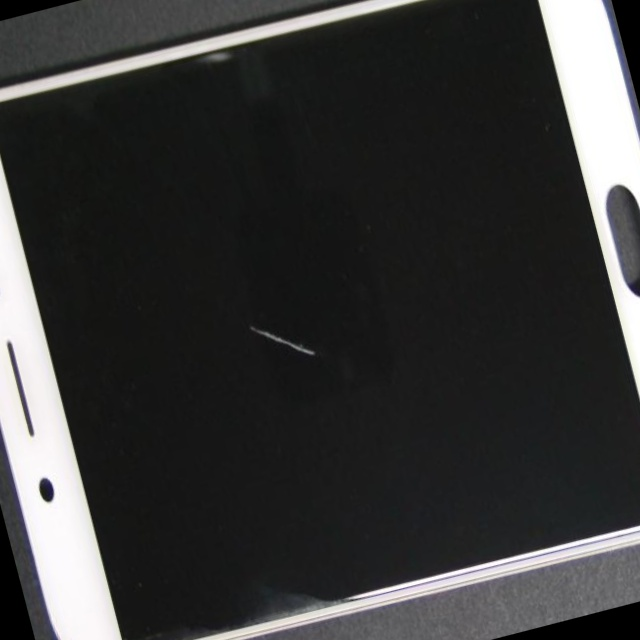scratch: (47, 80, 413, 515)
